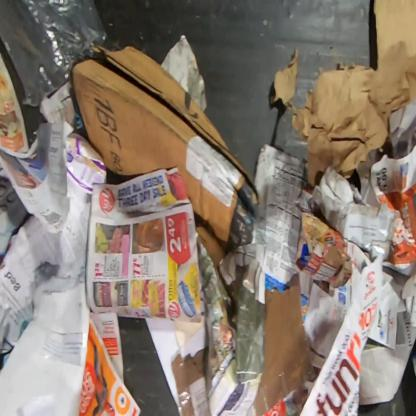cardboard: (72, 45, 260, 268), (234, 142, 316, 324), (254, 285, 315, 416), (296, 212, 352, 289), (63, 121, 107, 203), (171, 348, 211, 415)
soft_plastic: (0, 0, 109, 108)
